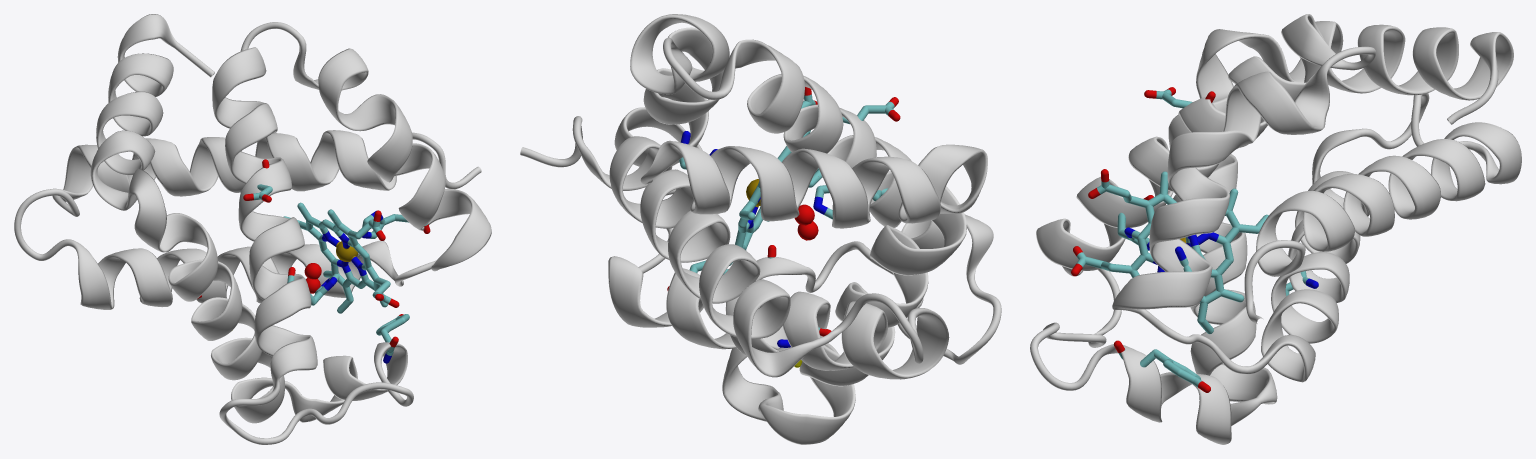
Rendered from frame06.gltf.
3 views of the same model, side by side, from view 1: azimuth 30°, elevation 25°; view 2: azimuth 150°, elevation 25°; view 3: azimuth 270°, elevation 25° (orthographic). The views are drawn at different scales.
Parts seen in each view (by area): view 1: vmd_mol6_rep3, vmd_mol6_rep2, vmd_mol6_rep1; view 2: vmd_mol6_rep3, vmd_mol6_rep1, vmd_mol6_rep2, vmd_mol6_rep4; view 3: vmd_mol6_rep3, vmd_mol6_rep2, vmd_mol6_rep1.
Boxes of the visible parts, <box> form: vmd_mol6_rep3: <box>14,14,491,444</box>; vmd_mol6_rep2: <box>283,202,399,313</box>; vmd_mol6_rep1: <box>197,159,430,363</box>; vmd_mol6_rep3: <box>520,14,1001,444</box>; vmd_mol6_rep1: <box>667,97,900,367</box>; vmd_mol6_rep2: <box>729,87,822,265</box>; vmd_mol6_rep4: <box>794,204,818,240</box>; vmd_mol6_rep3: <box>1030,14,1521,444</box>; vmd_mol6_rep2: <box>1071,169,1268,334</box>; vmd_mol6_rep1: <box>1114,87,1318,392</box>.
Bounding box in the file's own units: 1.42 × 1.19 × 1.3.
